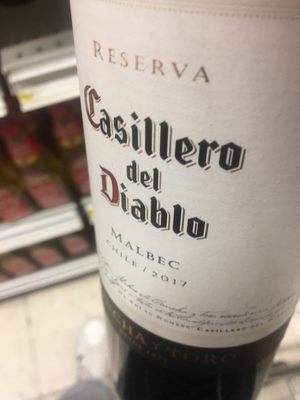casillero del diablo malbec: (69, 2, 300, 381)
